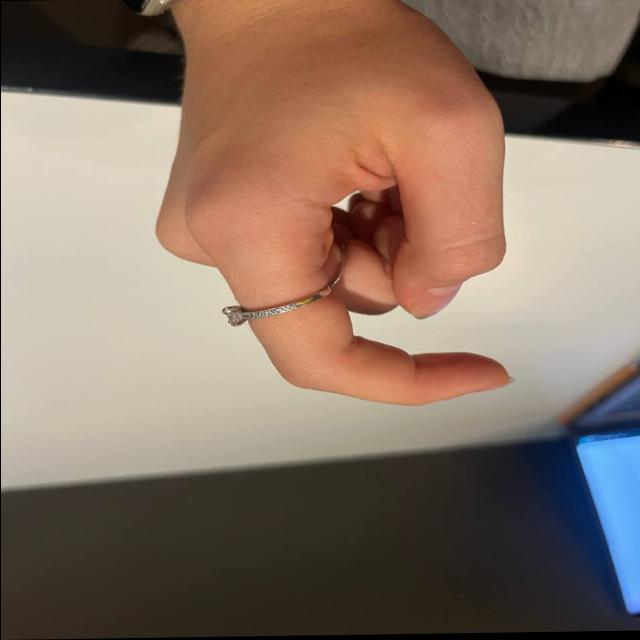kh: (127, 59, 522, 430)
